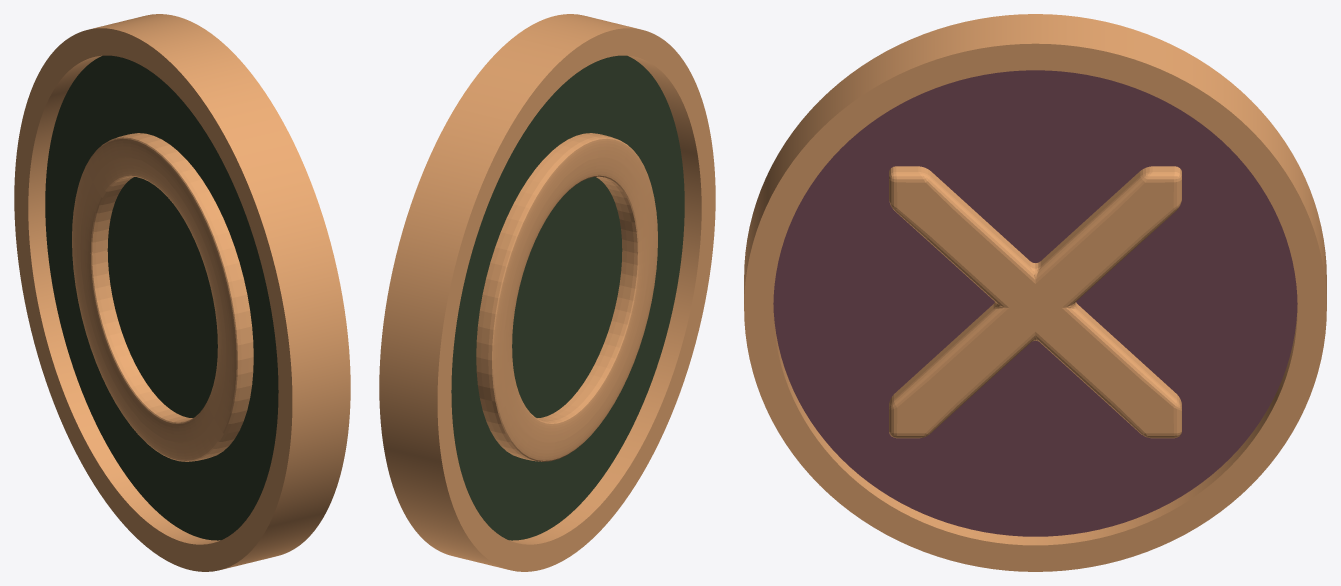
Rendered from Hit_Miss Token.fbx.
3 renders of one model, left to right at view 1: azimuth 30°, elevation 25°; view 2: azimuth 150°, elevation 25°; view 3: azimuth 270°, elevation 25°, orthographic. The views are drawn at different scales.
Parts seen in each view (by area): view 1: Cylinder, Circle.001, Miss Icon; view 2: Cylinder, Circle.001, Miss Icon; view 3: Circle, Cylinder, Hit Icon.
Boxes of the visible parts, x1,y1,x2,y2 form: Cylinder: [14, 14, 350, 571]; Circle.001: [45, 55, 278, 540]; Miss Icon: [72, 133, 253, 461]; Cylinder: [379, 14, 715, 571]; Circle.001: [451, 55, 684, 540]; Miss Icon: [476, 133, 657, 461]; Circle: [773, 70, 1297, 536]; Cylinder: [744, 14, 1326, 571]; Hit Icon: [889, 166, 1181, 438].
Bounding box in the file's own units: 24 × 199 × 199.
